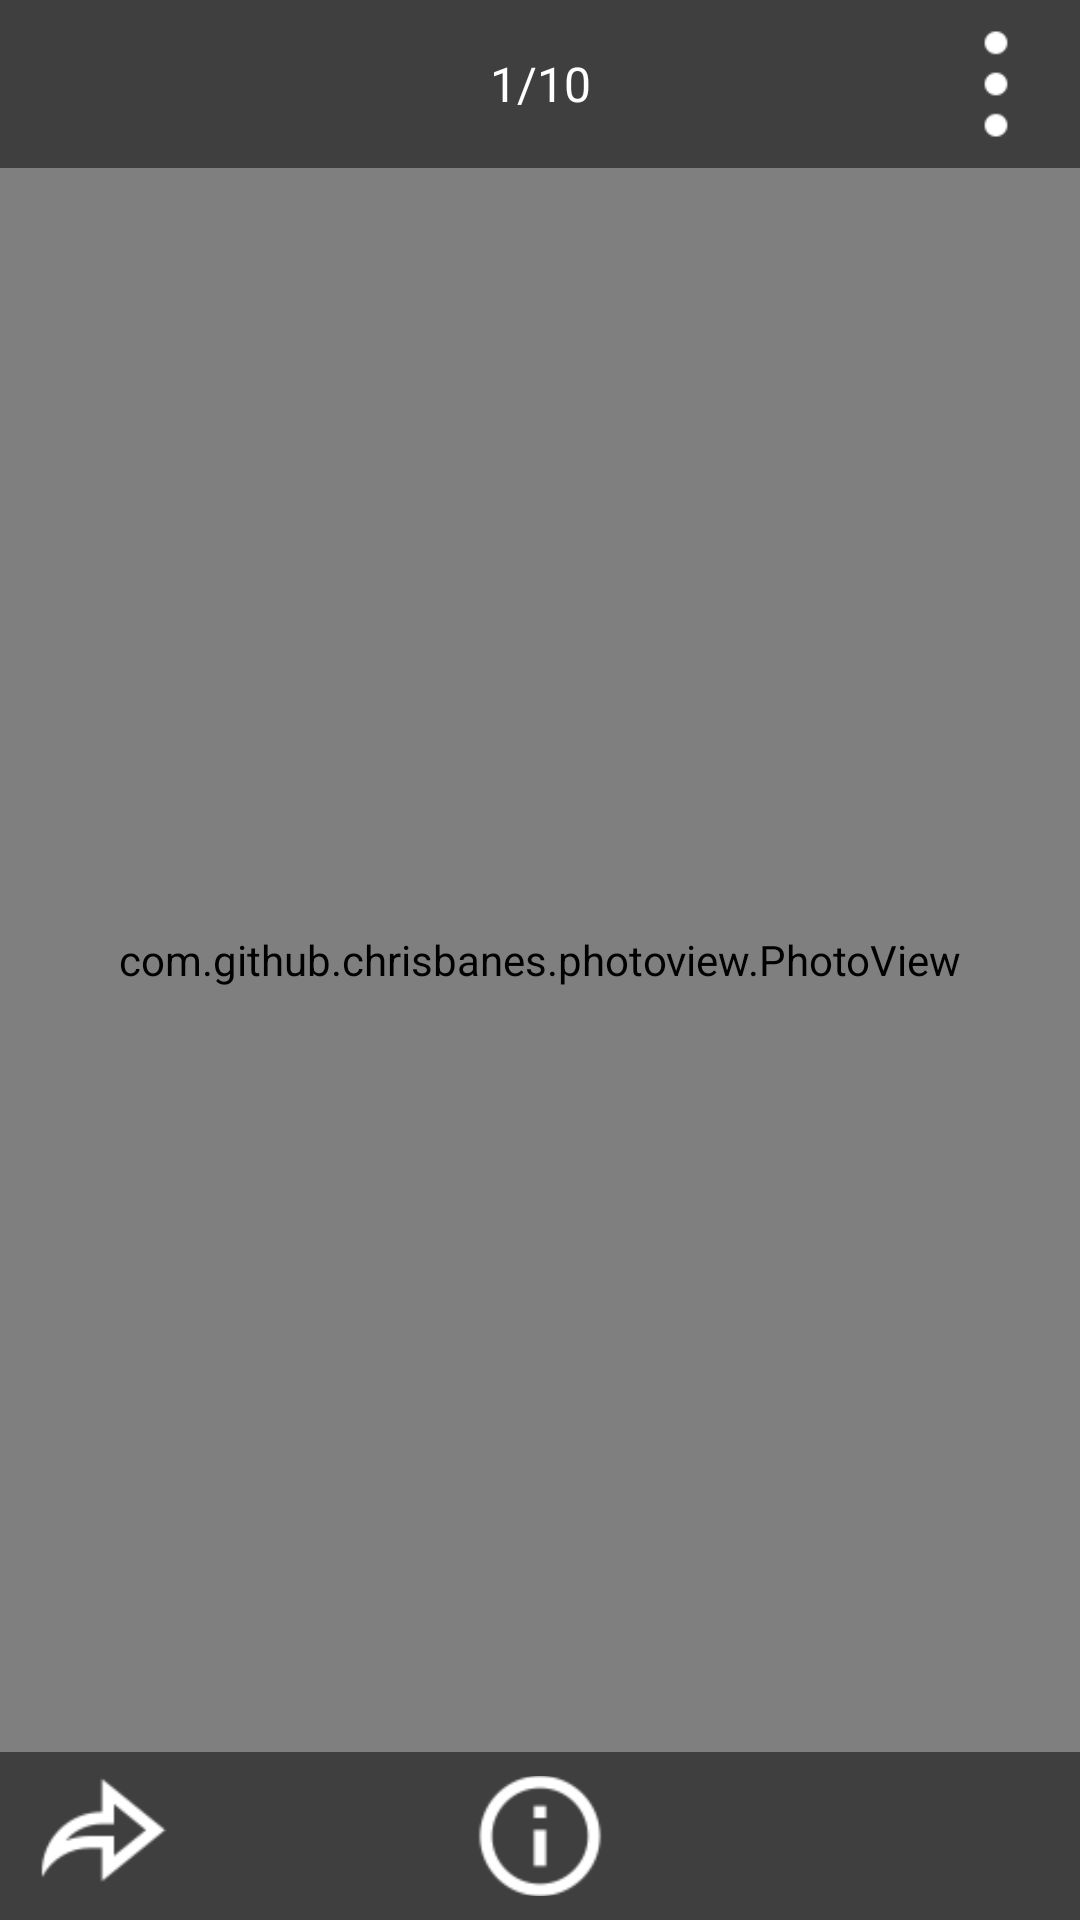

Screen size 1080 × 1920. Icon name, then its center in pixels as [x,y]:
info: [540,1836]
more: [996,84]
share: [103,1830]
